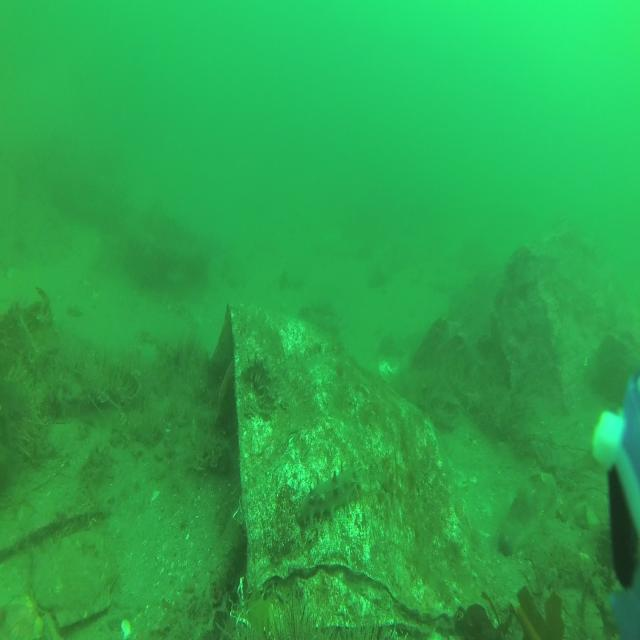holothurian: (292, 462, 363, 531), (240, 348, 278, 411)
